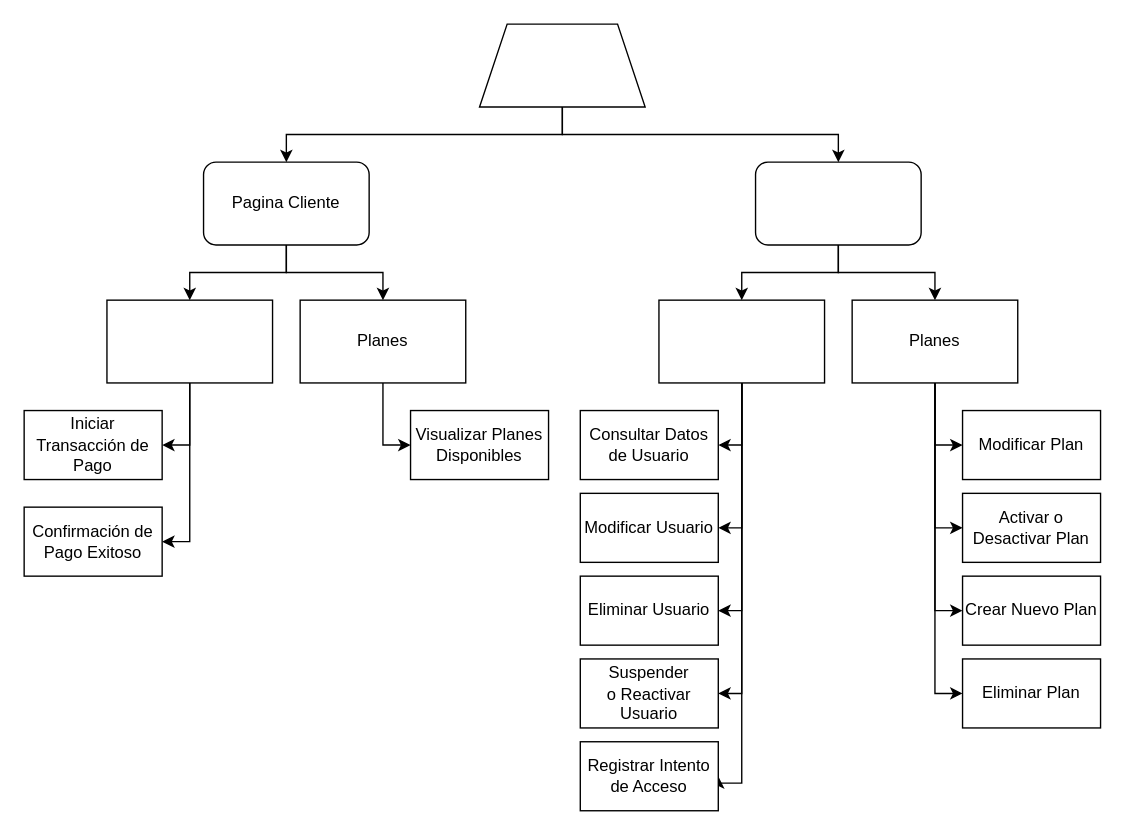
Some shapes in this 1125 by 835 pixel diagram are drawn without their labels. The box of each missing label's shape, as (x1, y1, x2, y2) in pixels:
GymPro: (478, 23, 645, 107)
Pagina Moderación: (754, 161, 921, 245)
Pagos: (106, 299, 273, 383)
Usuarios: (658, 299, 825, 383)
